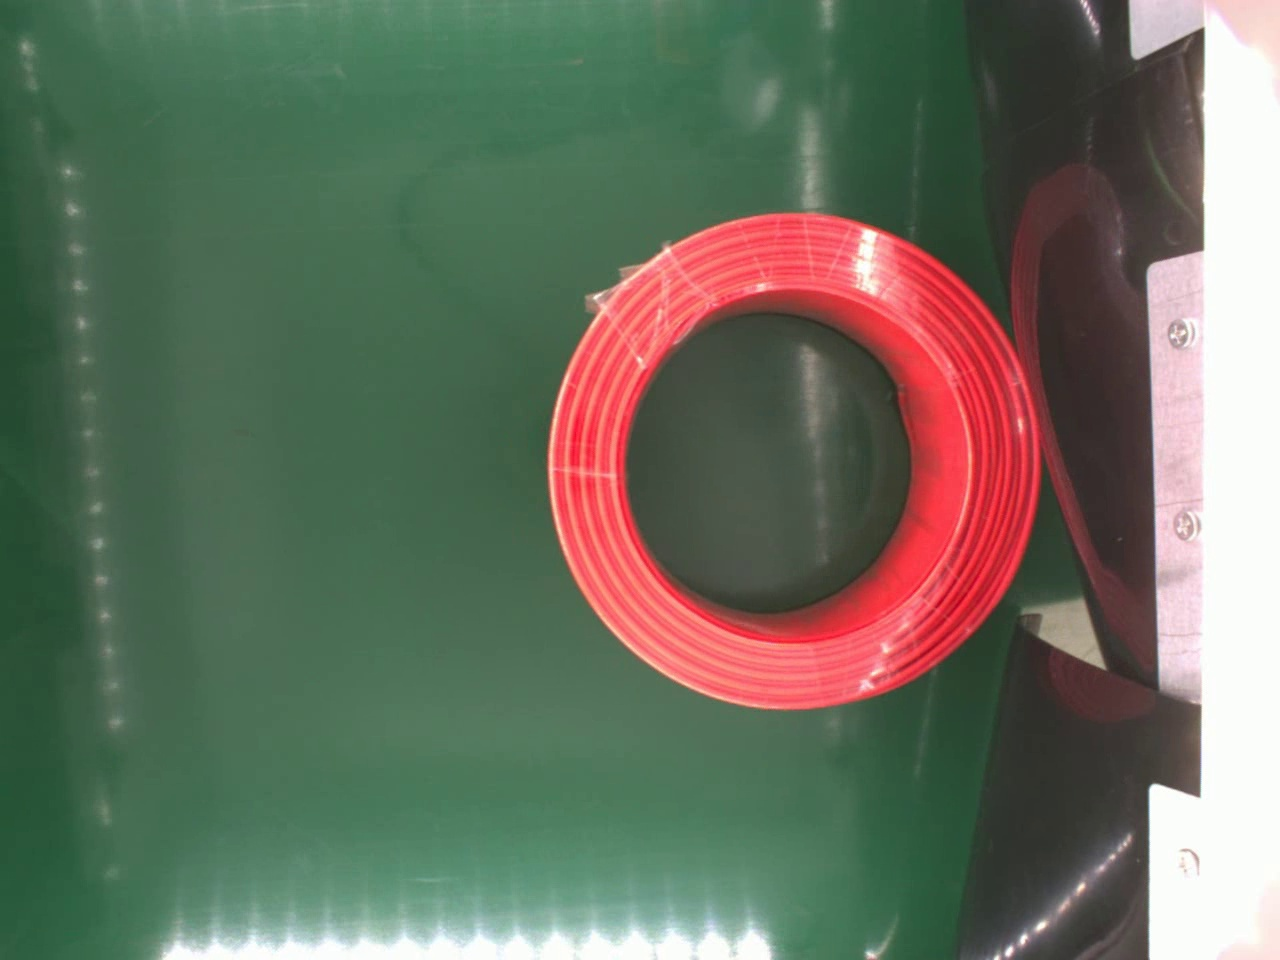red: (550, 205, 1042, 713)
